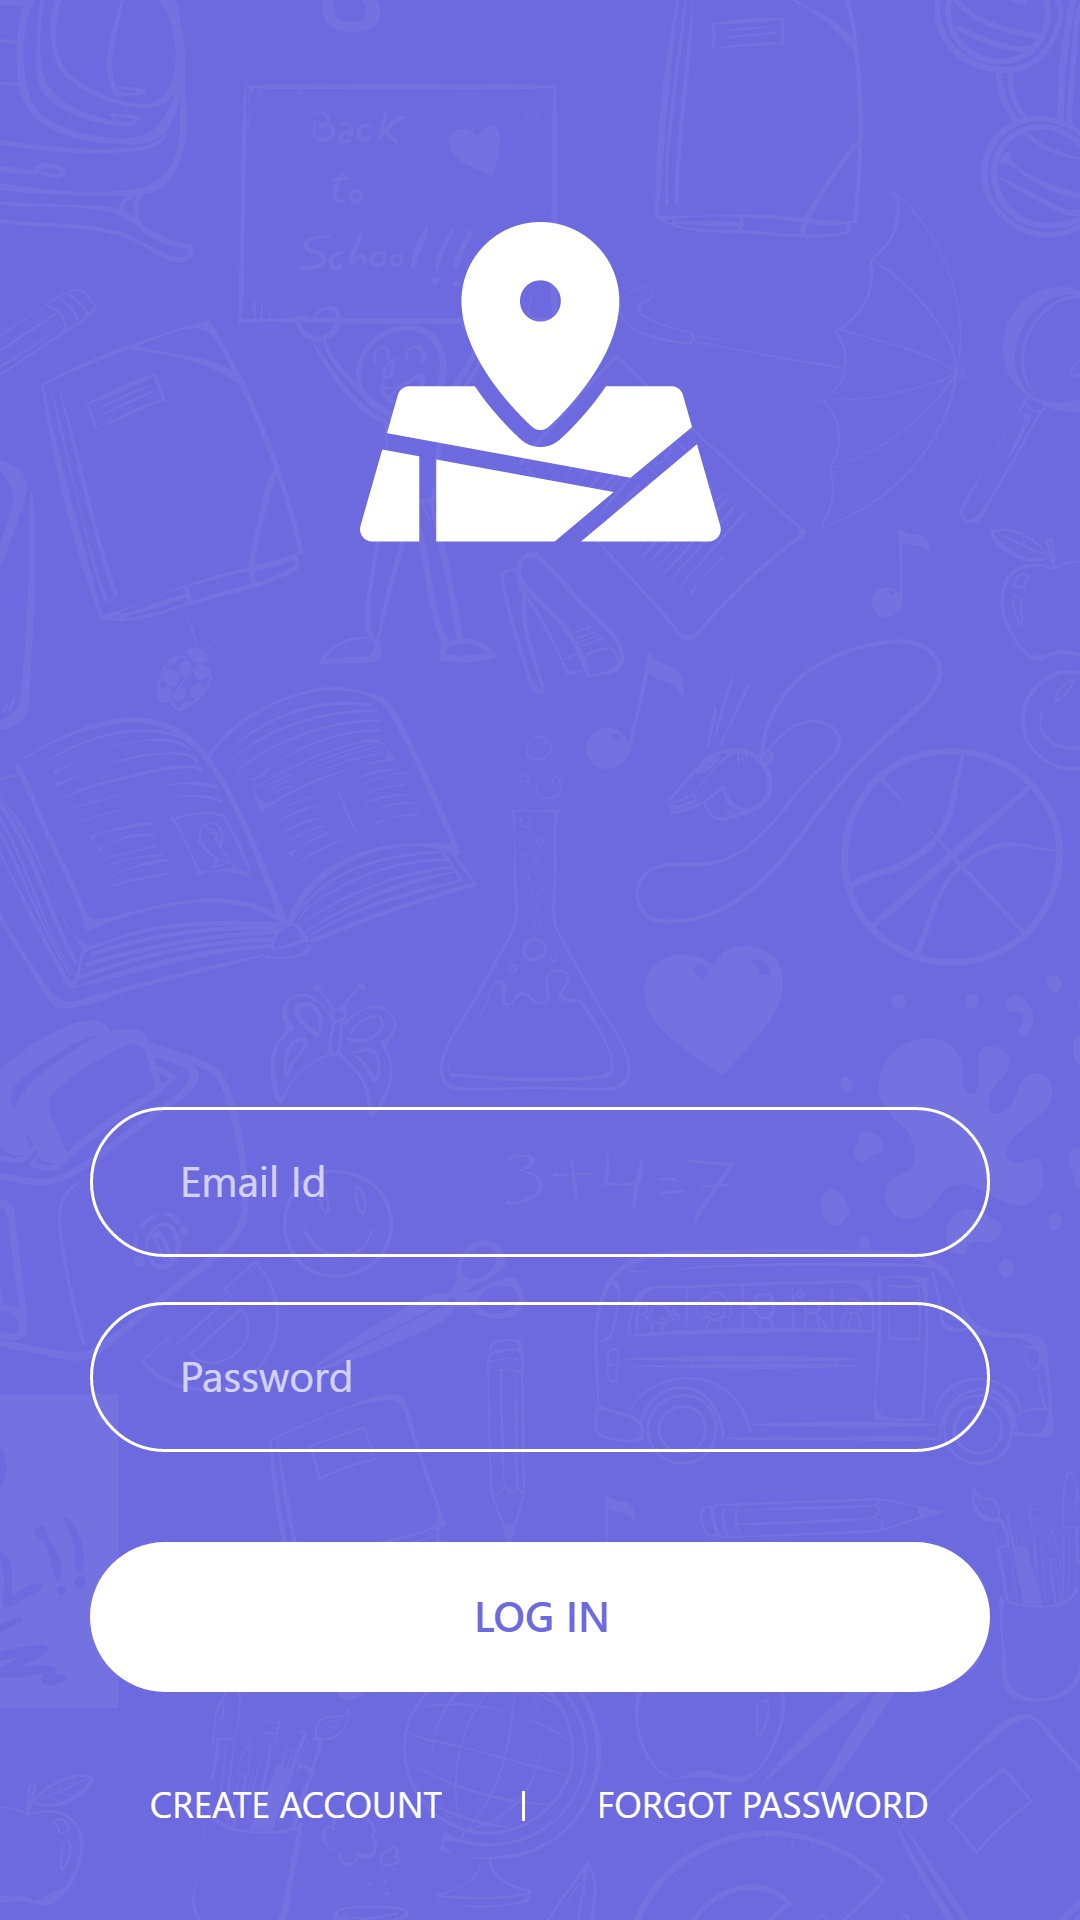BackgroundImage: (4, 1, 1080, 1920)
EditText: (90, 1106, 992, 1259), (90, 1302, 992, 1453)
Image: (359, 222, 723, 545)
Text: (599, 1789, 928, 1820), (150, 1789, 444, 1820), (183, 1360, 352, 1393), (183, 1164, 327, 1197)
TextButton: (90, 1542, 992, 1693)
